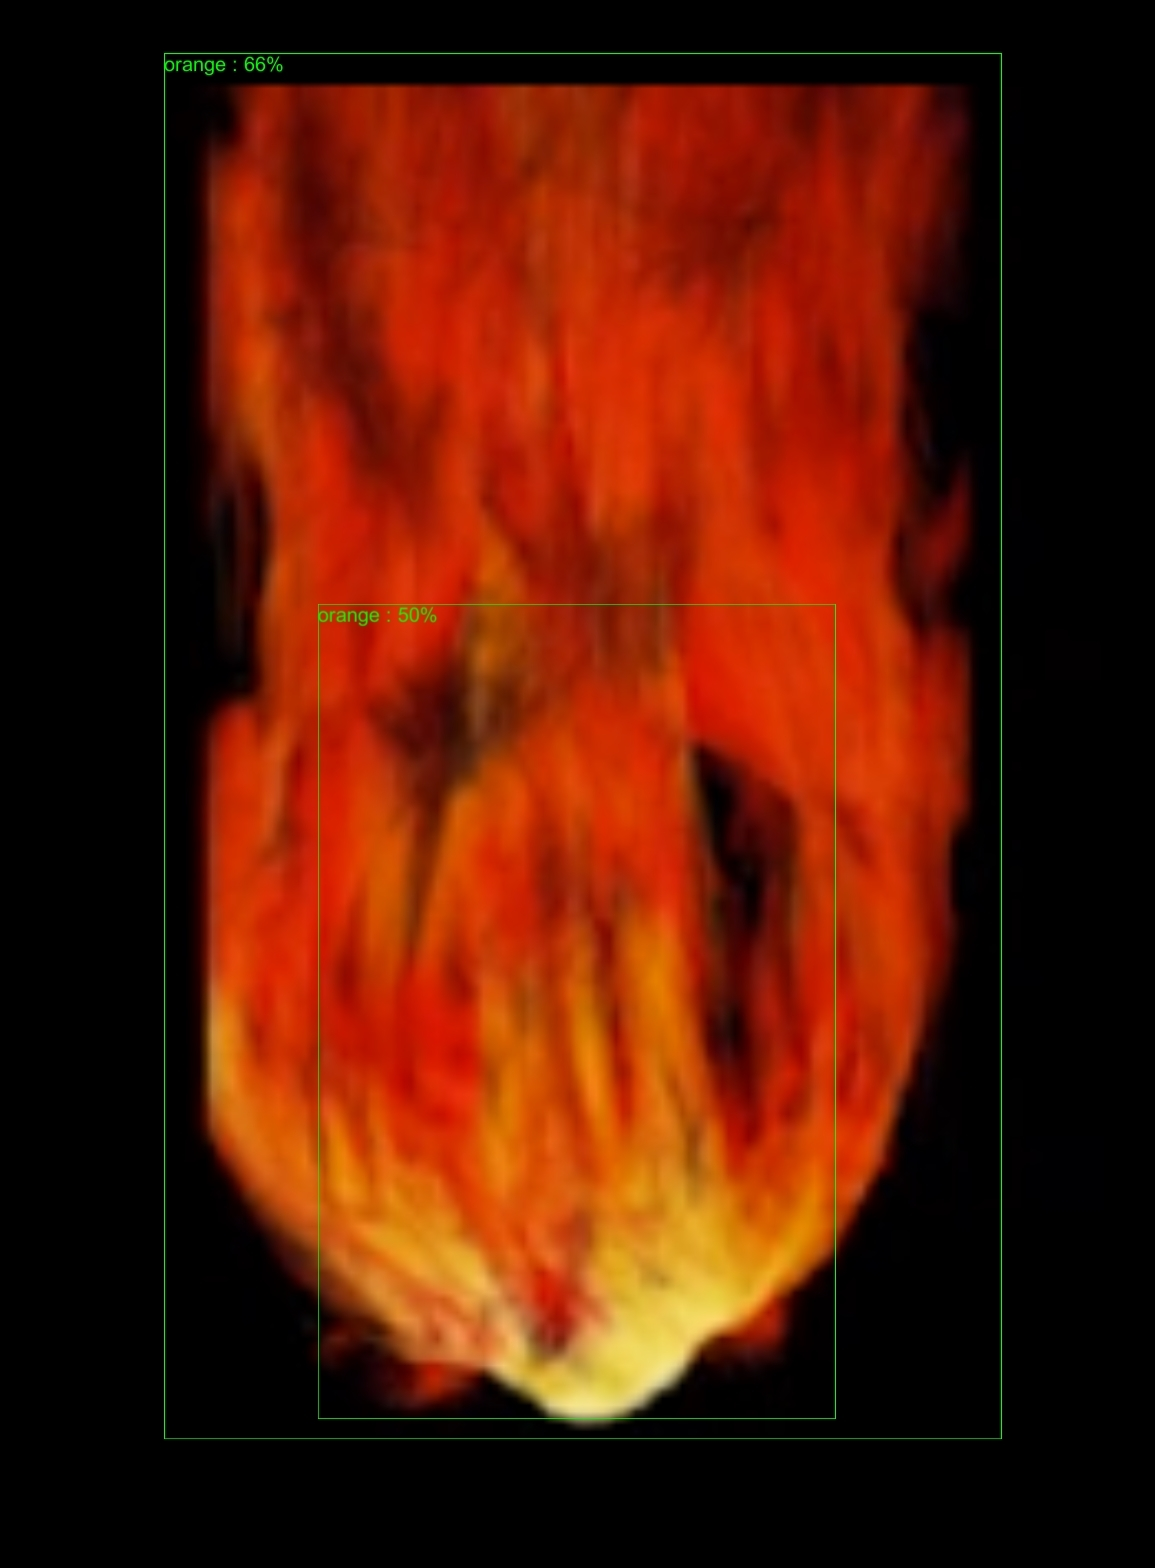flame: (207, 235, 968, 1432)
smoke: (163, 82, 1000, 321), (666, 754, 832, 1185)
